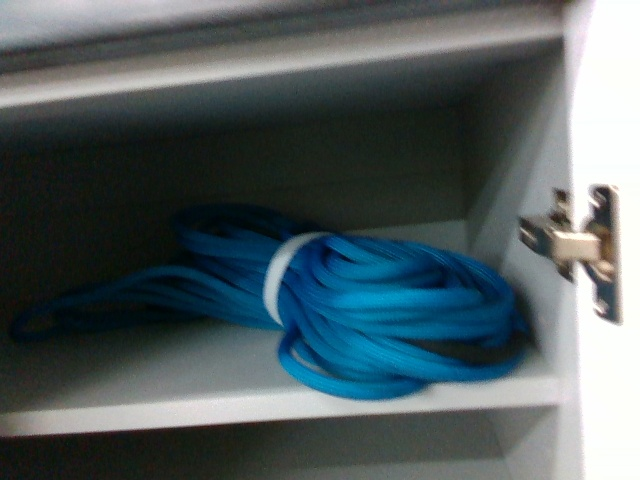rope: (7, 202, 539, 401)
